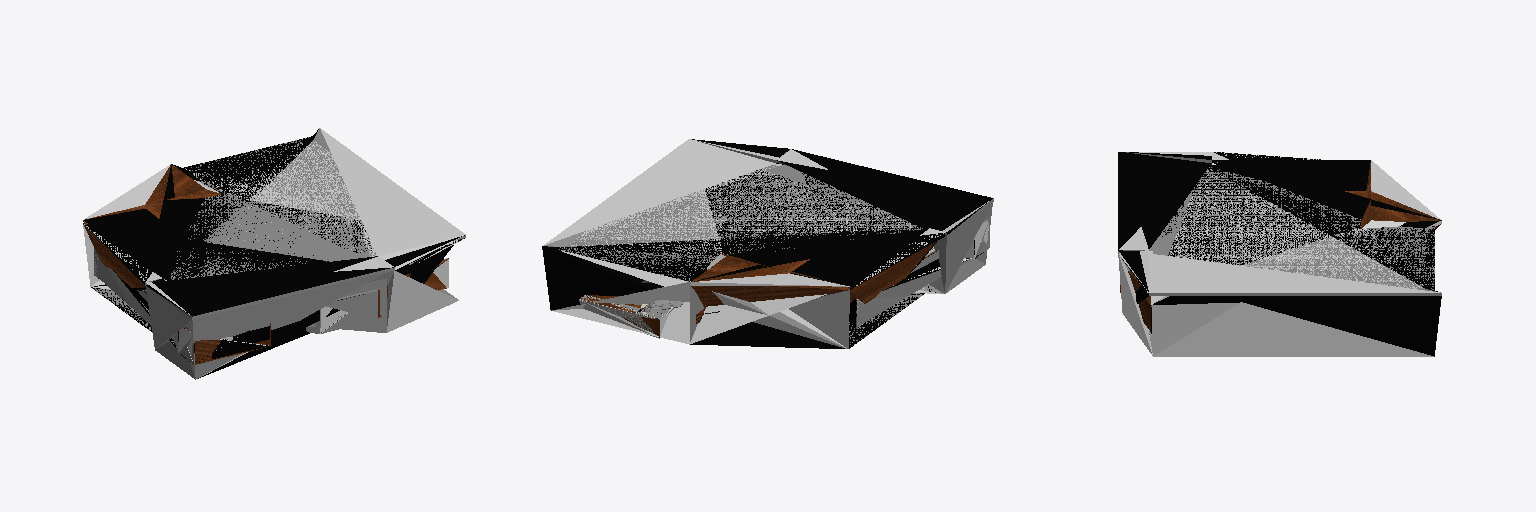
The picture shows the model from 3 angles: view 1: azimuth 30°, elevation 25°; view 2: azimuth 150°, elevation 25°; view 3: azimuth 270°, elevation 25°; orthographic projection.
Visible parts, largest first — view 1: stove, wood_primary, bathroom_props, shower; view 2: stove, wood_primary, bathroom_props, walls, shower; view 3: stove, wood_primary, bathroom_props.
Boxes of the visible parts, box(x1,y1,x2,y2) form: stove: box(83, 129, 464, 378); wood_primary: box(83, 128, 465, 379); bathroom_props: box(83, 128, 465, 373); shower: box(179, 290, 377, 364); stove: box(542, 139, 992, 348); wood_primary: box(544, 141, 993, 348); bathroom_props: box(543, 139, 988, 348); walls: box(579, 295, 683, 338); shower: box(579, 220, 989, 337); stove: box(1118, 152, 1441, 356); wood_primary: box(1118, 152, 1441, 356); bathroom_props: box(1118, 152, 1441, 355).
Size of the model in its own units: 54.92 by 12.28 by 53.2.
Materials: 29 (10 with a texture image).